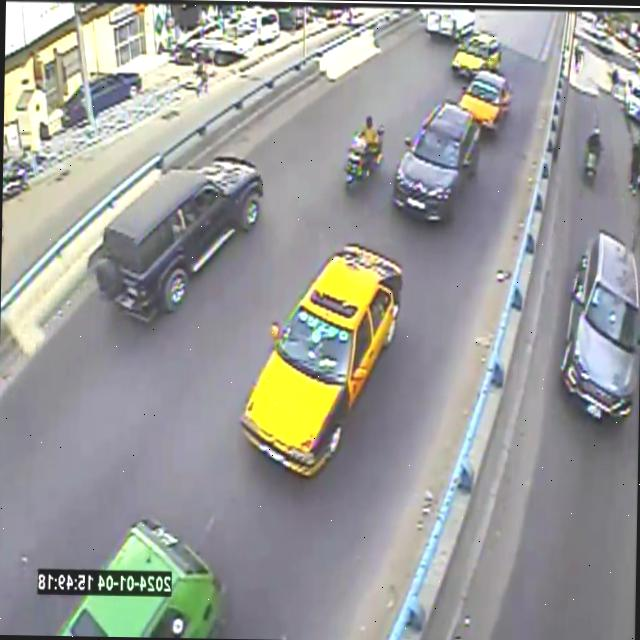car: (241, 243, 401, 475), (89, 155, 264, 320), (57, 517, 221, 637), (394, 100, 480, 219), (459, 70, 510, 130), (452, 30, 501, 77), (426, 9, 475, 41)
